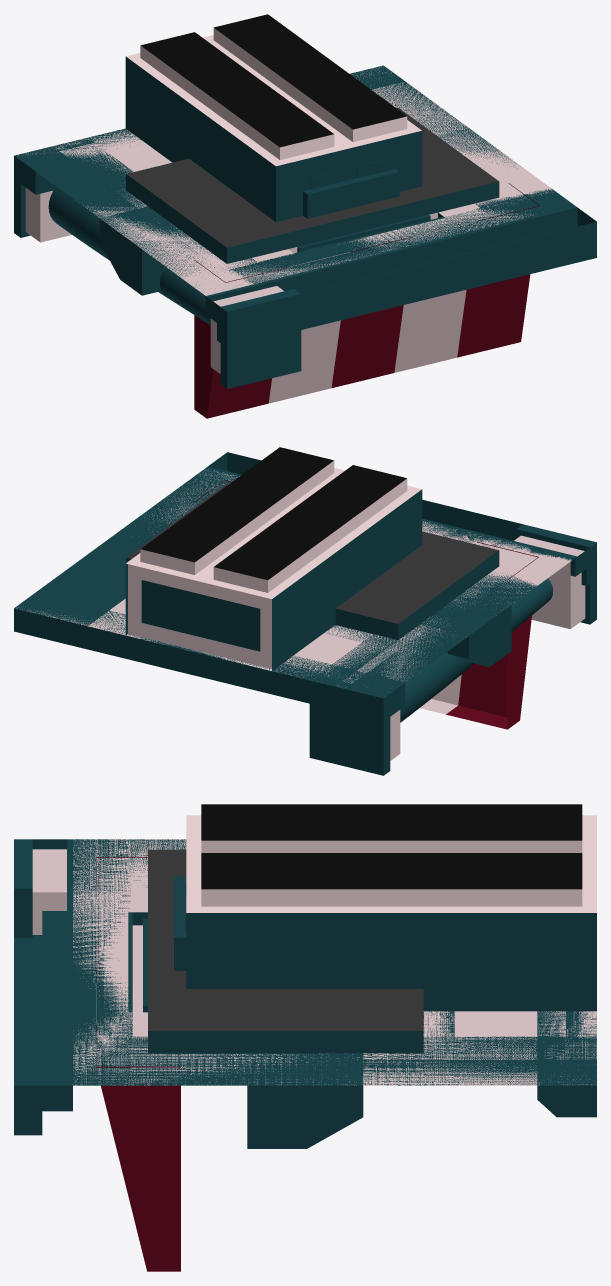
Rendered from kit.glb.
The picture shows the model from 3 angles, top to bottom: view 1: azimuth 30°, elevation 25°; view 2: azimuth 150°, elevation 25°; view 3: azimuth 270°, elevation 25°; orthographic projection. The views are drawn at different scales.
Visible parts, largest first — view 1: G_Door, G_Windows, window1, Pillar, Roof, Roof_Corner; view 2: G_Door, G_Windows, Roof, Pillar, window1, Roof_Corner; view 3: G_Door, G_Windows, Roof, window1, Pillar.
Part boxes in pixels (x1=…): G_Door: x1=15, y1=14, x2=596, y2=347; G_Windows: x1=17, y1=66, x2=596, y2=418; window1: x1=18, y1=66, x2=596, y2=345; Pillar: x1=14, y1=138, x2=301, y2=388; Roof: x1=15, y1=65, x2=474, y2=295; Roof_Corner: x1=15, y1=155, x2=184, y2=294; G_Door: x1=15, y1=447, x2=589, y2=693; G_Windows: x1=16, y1=452, x2=586, y2=729; Roof: x1=14, y1=524, x2=511, y2=721; Pillar: x1=309, y1=524, x2=596, y2=775; window1: x1=16, y1=453, x2=586, y2=692; Roof_Corner: x1=362, y1=601, x2=495, y2=721; G_Door: x1=14, y1=804, x2=596, y2=1135; G_Windows: x1=14, y1=839, x2=596, y2=1271; Roof: x1=247, y1=1011, x2=596, y2=1148; window1: x1=14, y1=839, x2=596, y2=1111; Pillar: x1=14, y1=839, x2=66, y2=937.
Bounding box in the file's own units: 1 × 0.6054 × 1.
